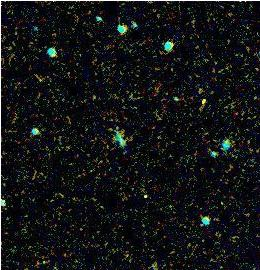star: (130, 179, 160, 209)
